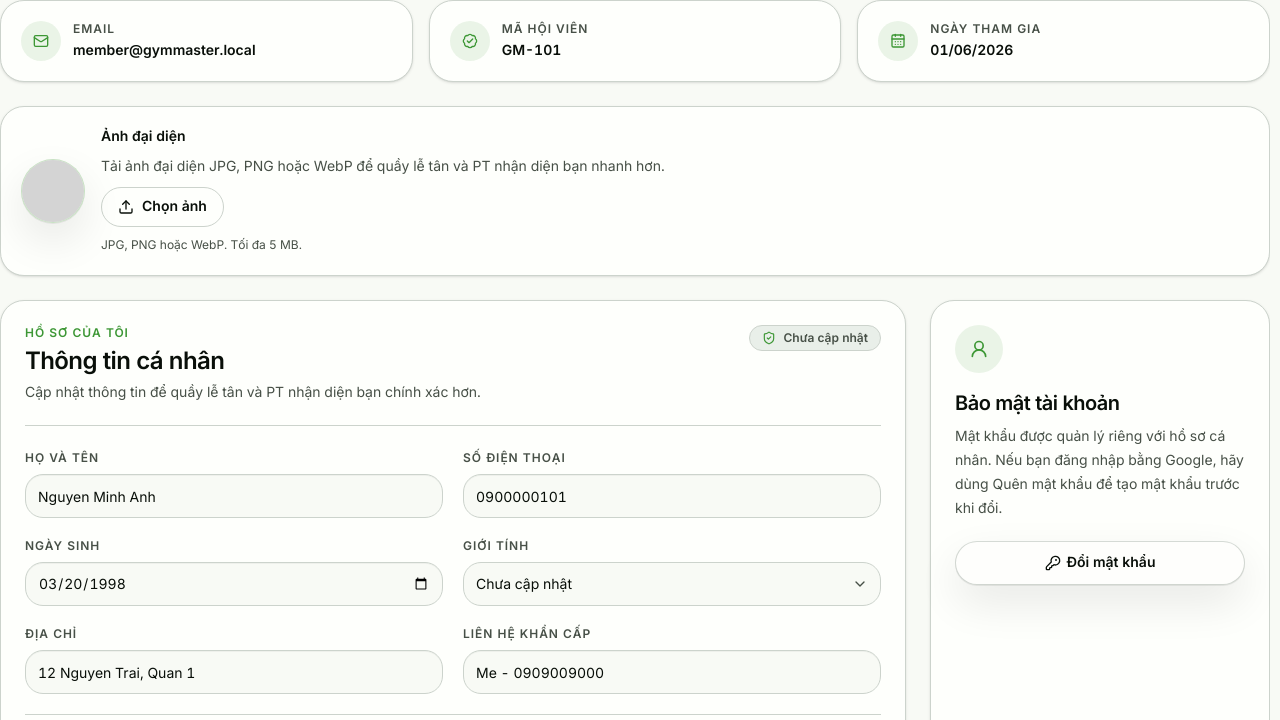
Test: MemberProfileWorkspace › maps duplicate phone response to the phone field
Replace the text in the field with test id "member-profile-phone" with "0900000102" at (672, 496), box 463,474 -> 881,518
(page scrolled)
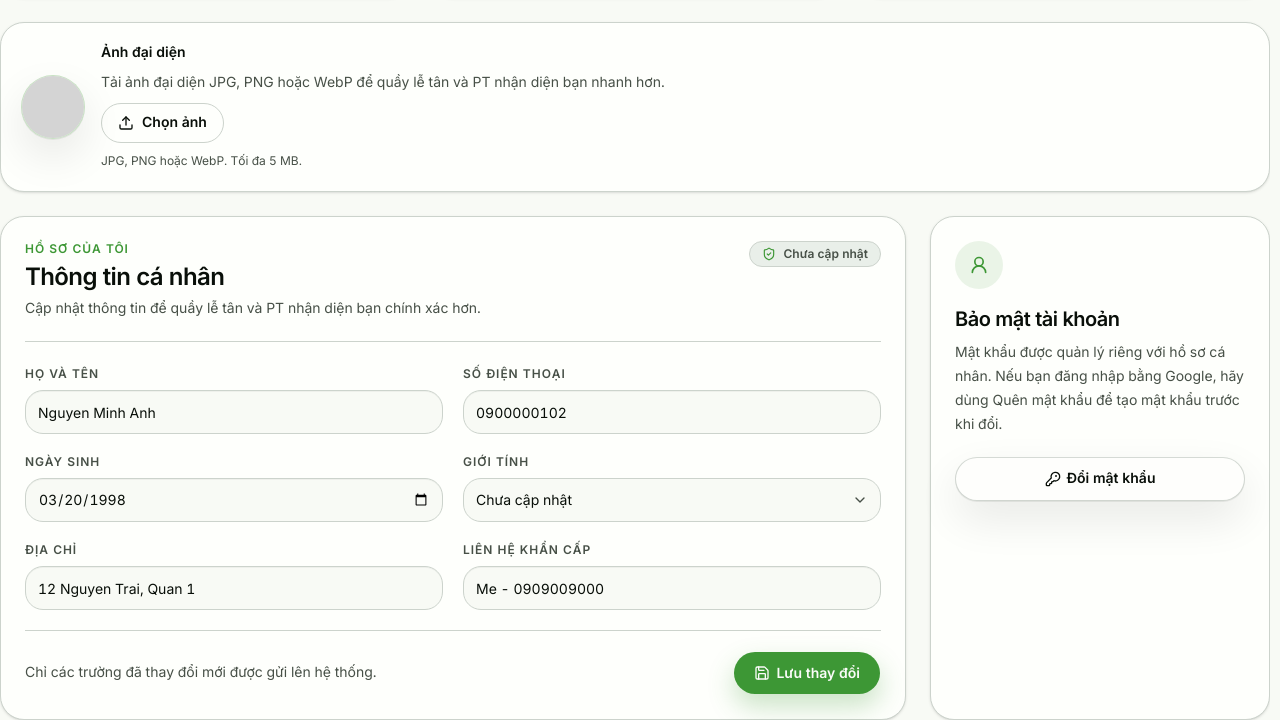
Click the button "Lưu thay đổi".
click(807, 673)  # box 733,651 -> 881,695
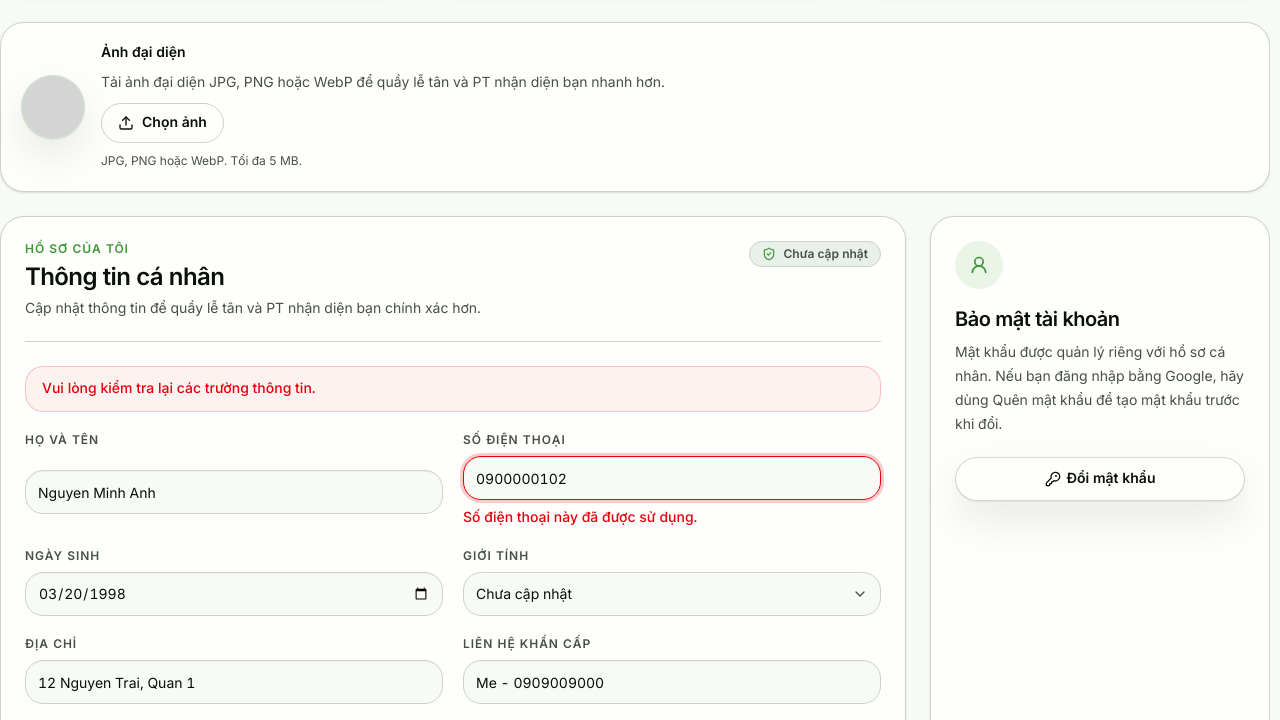
Check: the text "Số điện thoại này đã được sử dụng." is shown, box 463,509 -> 697,526
